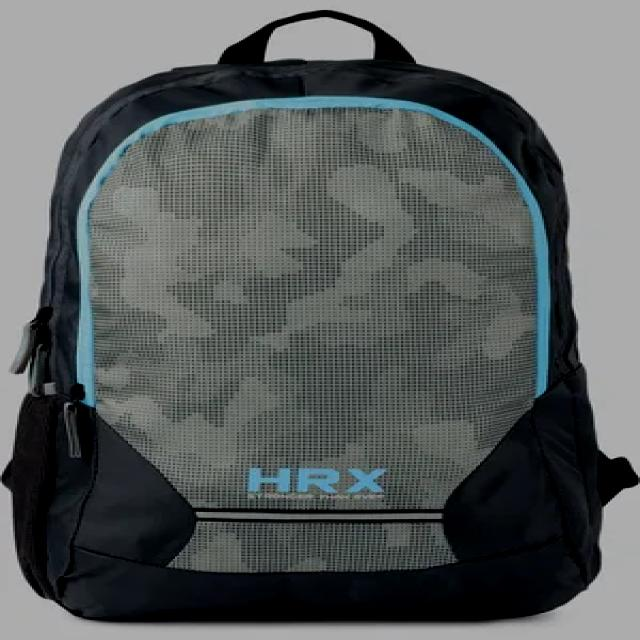backpack: (1, 10, 639, 622)
